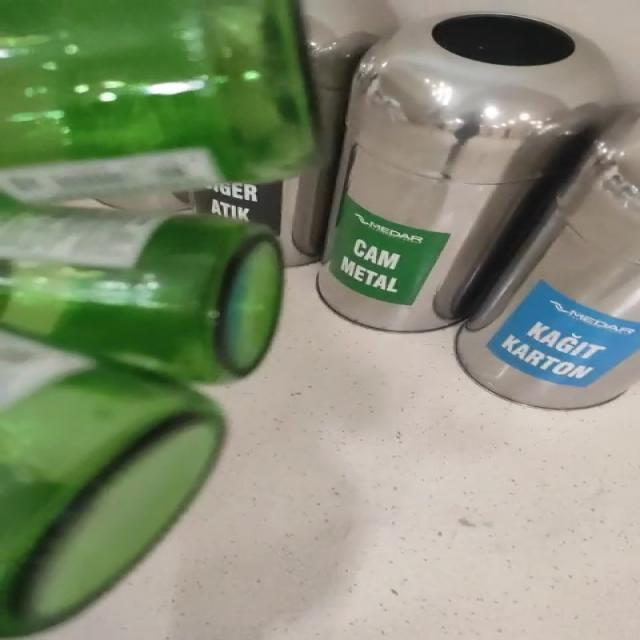glass: (0, 0, 316, 638)
